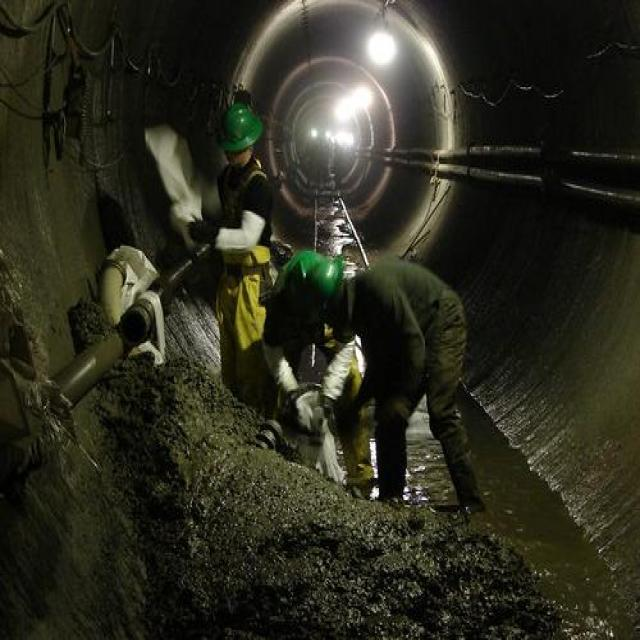Safety-Helmet: (296, 247, 353, 314), (210, 98, 270, 160)
